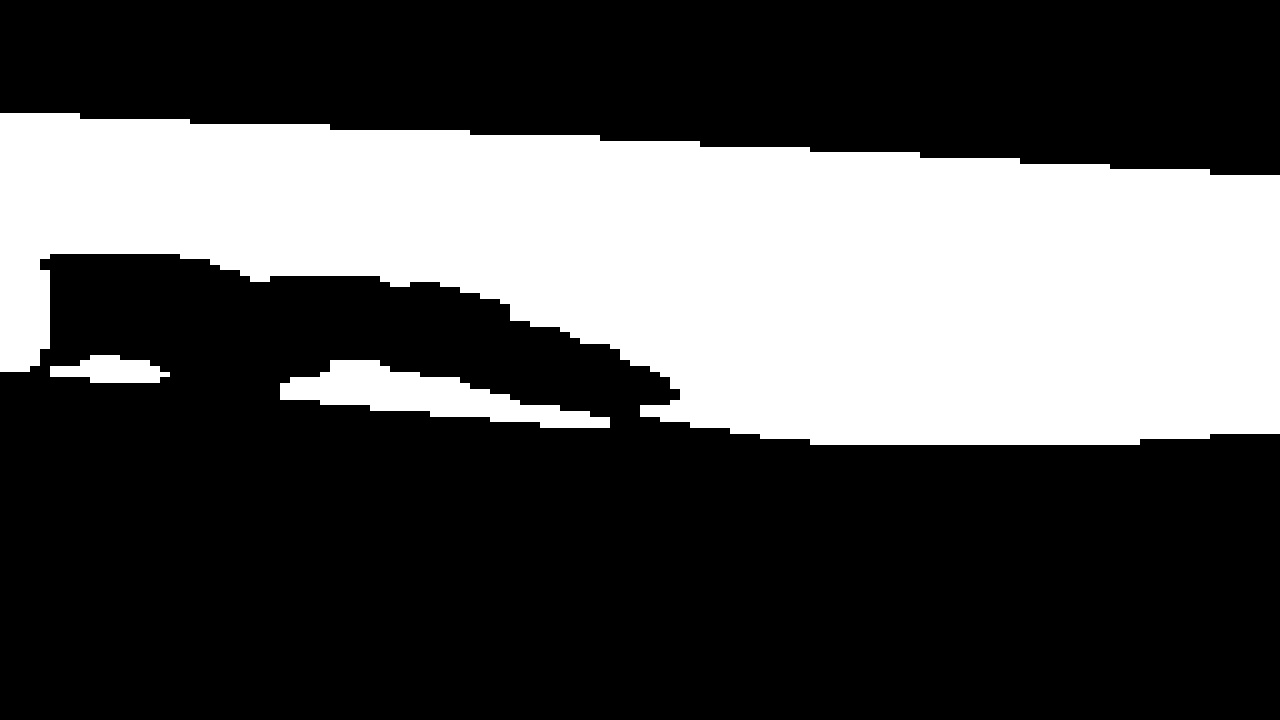Turbine: (12, 96, 1268, 456)
